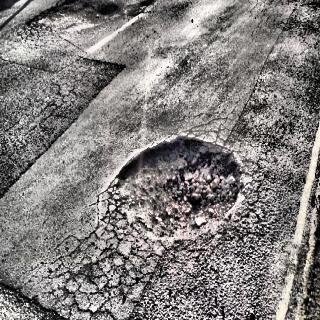alligator-crack: (51, 206, 151, 320)
pothole: (111, 132, 243, 242)
